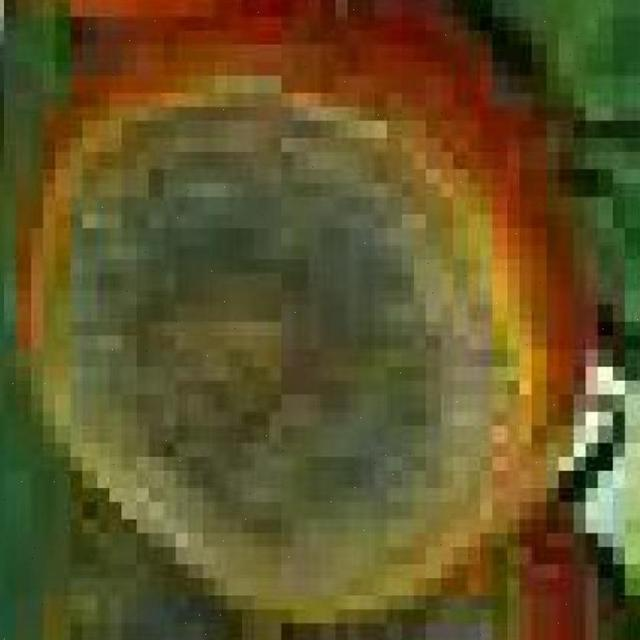Blossom End Rot Fruit: (38, 62, 362, 411)
